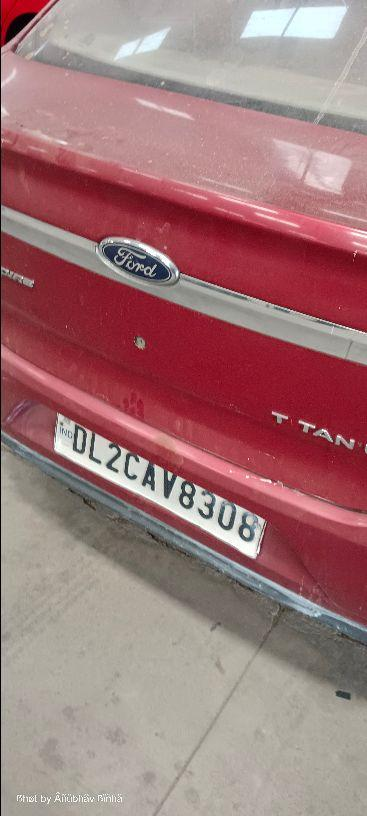license_plate: (52, 410, 268, 560)
